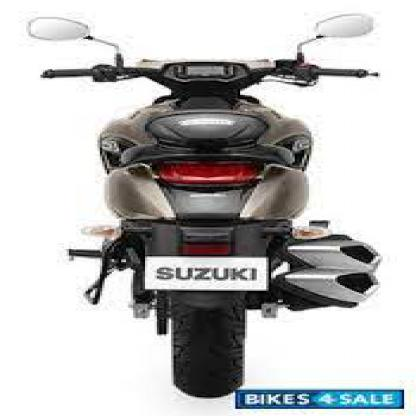bike: (31, 15, 387, 404)
